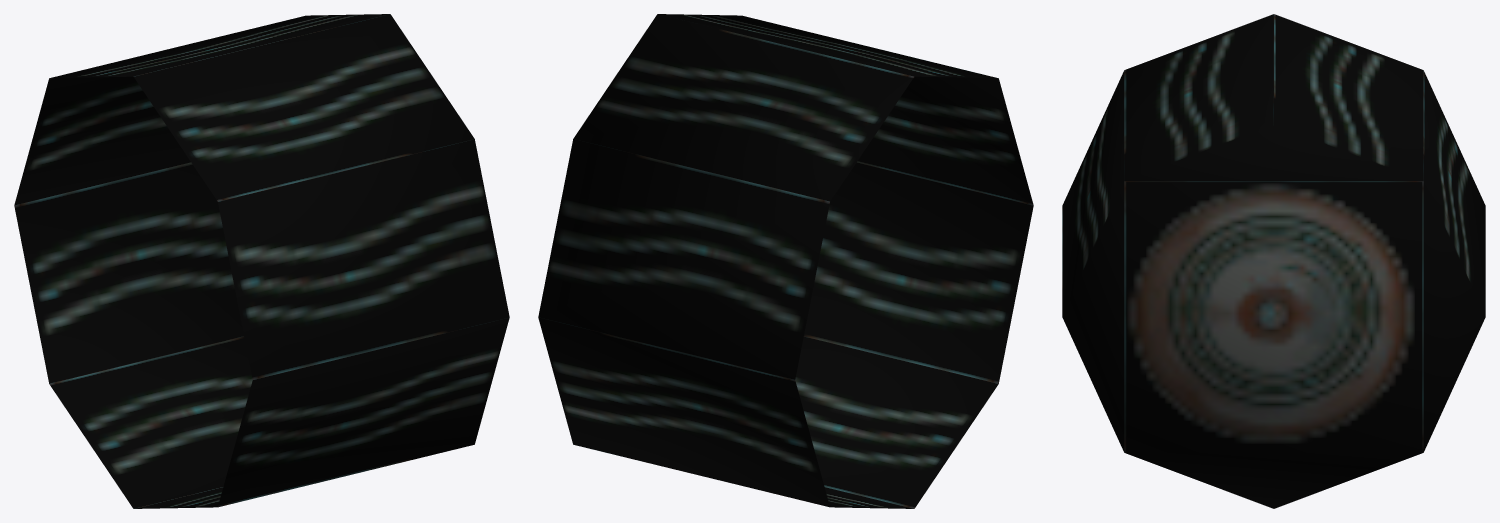
File: WheelRearL.obj
3 views of the same model, side by side, from view 1: azimuth 30°, elevation 25°; view 2: azimuth 150°, elevation 25°; view 3: azimuth 270°, elevation 25° (orthographic). The views are drawn at different scales.
Visible parts, largest first — view 1: WheelRearL; view 2: WheelRearL; view 3: WheelRearL.
Part boxes in pixels (x1=…): WheelRearL: x1=14, y1=14, x2=509, y2=508; WheelRearL: x1=538, y1=14, x2=1033, y2=508; WheelRearL: x1=1062, y1=14, x2=1485, y2=508.
Bounding box in the file's own units: 0.8559 × 1.38 × 1.38.
2 materials, 1 textured.
